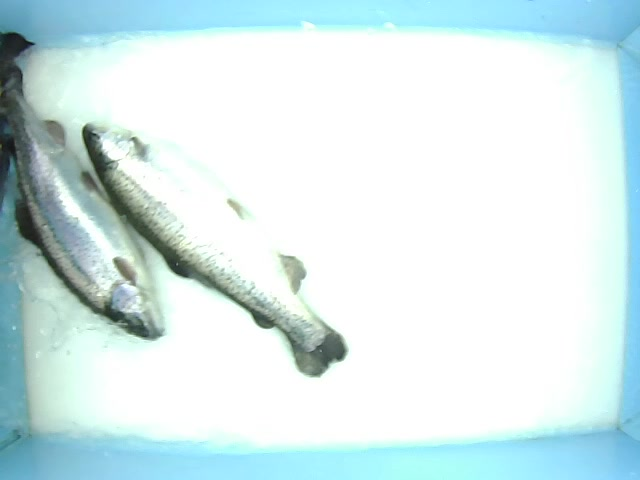fish: (81, 121, 360, 371), (1, 71, 165, 350)
